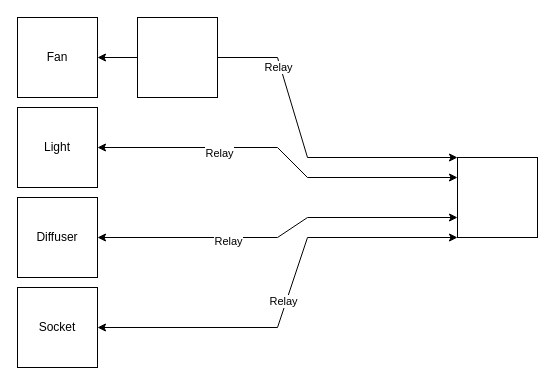
Some shapes in this 555 by 385 pixel diagram are drawn without their labels. Here are the shapes that lost their labels. From the top down, the centre of each, then its label:
At pixel 177 57: "Dimmer".
At pixel 497 197: "Control Board".
